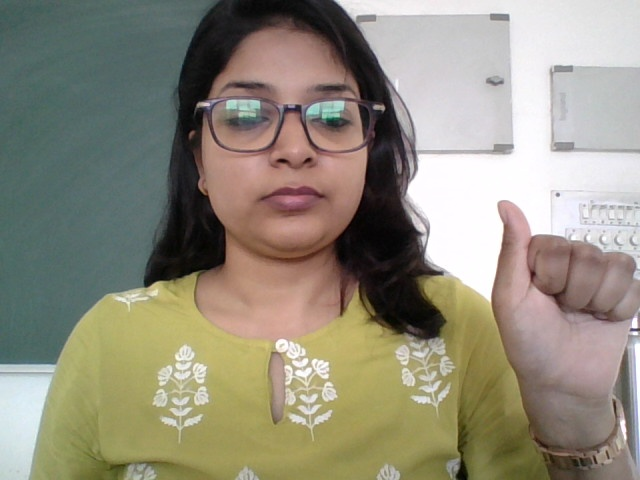A: (484, 190, 640, 434)
